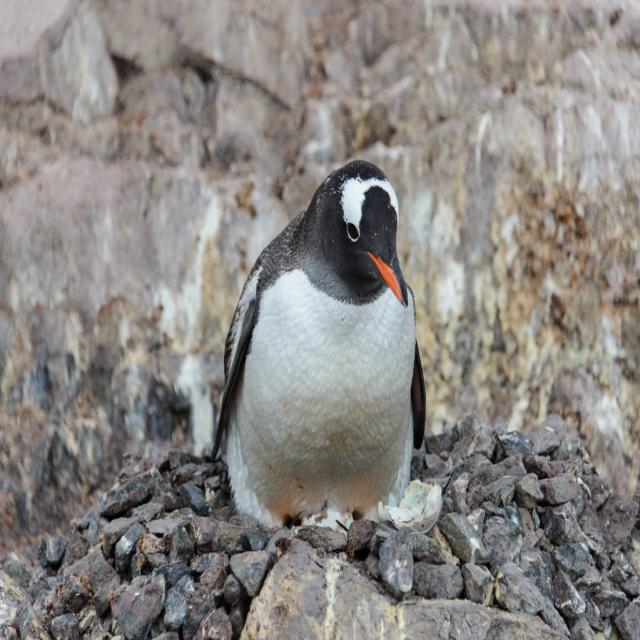Penguins: (206, 150, 439, 564)
